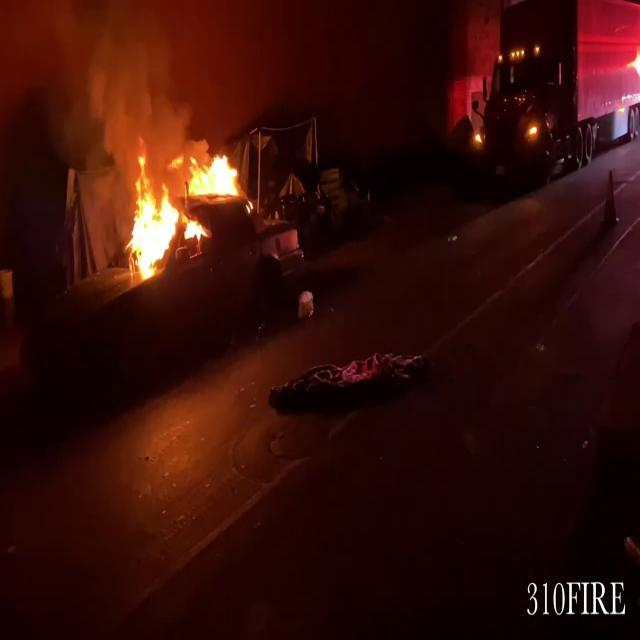Fire: (120, 143, 246, 284)
